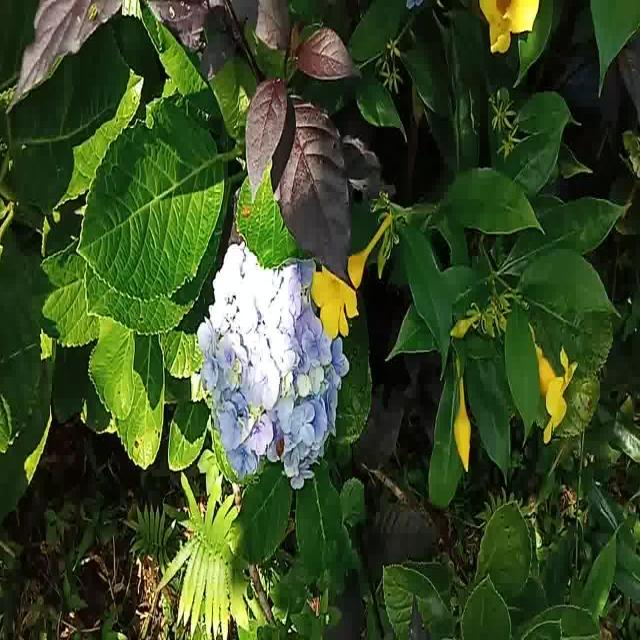Flower: (202, 249, 340, 479)
